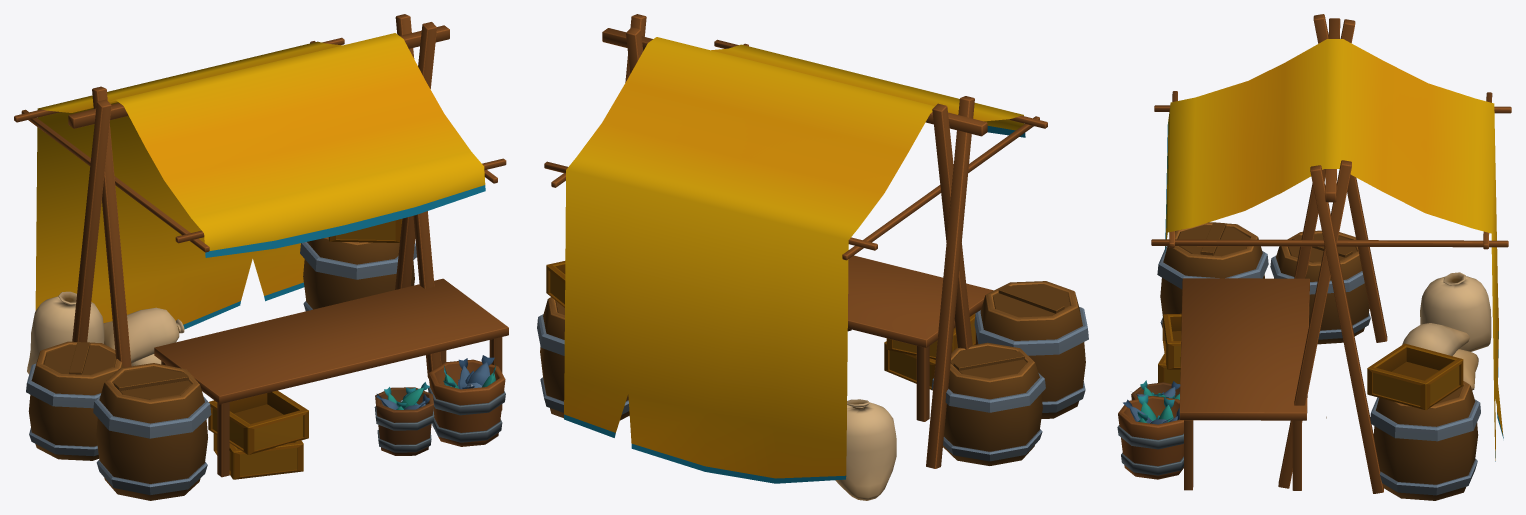
File: Fish_Market_lvl2.fbx
The picture shows the model from 3 angles, left to right: view 1: azimuth 30°, elevation 25°; view 2: azimuth 150°, elevation 25°; view 3: azimuth 270°, elevation 25°; orthographic projection. The views are drawn at different scales.
Parts seen in each view (by area): view 1: Fish_Market_lvl2_Tent, Fish_Market_lvl2_Table, Fish_Market_lvl2_Barrel, Fish_Market_lvl2_Barrel1, Fish_Market_lvl2_Bucket_With_Fish.001, Fish_Market_lvl2_Barrel.001, Product_Market_lvl2_Box.002, Fish_Market_lvl2_Bucket_With_Fish, Fish_Market_lvl2_Bag.001, Fish_Market_lvl2_Bag.003, Product_Market_lvl2_Box.001, Product_Market_lvl2_Box.003; view 2: Fish_Market_lvl2_Tent, Fish_Market_lvl2_Barrel1, Fish_Market_lvl2_Barrel, Fish_Market_lvl2_Table, Fish_Market_lvl2_Bag.001, Fish_Market_lvl2_Barrel.001, Product_Market_lvl2_Box.001, Product_Market_lvl2_Box.003, Product_Market_lvl2_Box.002; view 3: Fish_Market_lvl2_Tent, Fish_Market_lvl2_Table, Fish_Market_lvl2_Barrel.001, Fish_Market_lvl2_Barrel, Fish_Market_lvl2_Bucket_With_Fish.001, Product_Market_lvl2_Box.003, Fish_Market_lvl2_Barrel1, Fish_Market_lvl2_Bag.001, Fish_Market_lvl2_Bag.003, Product_Market_lvl2_Box.002, Fish_Market_lvl2_Bucket_With_Fish, Fish_Market_lvl2_Bag.002.
Boxes of the visible parts, box(x1,y1,x2,y2) form: Fish_Market_lvl2_Tent: box(14, 14, 506, 378); Fish_Market_lvl2_Table: box(154, 278, 508, 477); Fish_Market_lvl2_Barrel: box(93, 363, 211, 500); Fish_Market_lvl2_Barrel1: box(26, 341, 123, 460); Fish_Market_lvl2_Bucket_With_Fish.001: box(428, 355, 505, 446); Fish_Market_lvl2_Barrel.001: box(300, 237, 416, 311); Product_Market_lvl2_Box.002: box(208, 390, 308, 454); Fish_Market_lvl2_Bucket_With_Fish: box(374, 382, 434, 455); Fish_Market_lvl2_Bag.001: box(27, 291, 104, 374); Fish_Market_lvl2_Bag.003: box(103, 307, 184, 363); Product_Market_lvl2_Box.001: box(213, 433, 303, 479); Product_Market_lvl2_Box.003: box(328, 219, 402, 242); Fish_Market_lvl2_Tent: box(544, 14, 1047, 483); Fish_Market_lvl2_Barrel1: box(931, 342, 1045, 465); Fish_Market_lvl2_Barrel: box(974, 281, 1088, 418); Fish_Market_lvl2_Table: box(847, 255, 993, 421); Fish_Market_lvl2_Bag.001: box(835, 399, 896, 500); Fish_Market_lvl2_Barrel.001: box(537, 297, 629, 420); Product_Market_lvl2_Box.001: box(884, 341, 935, 390); Product_Market_lvl2_Box.003: box(546, 261, 565, 307); Product_Market_lvl2_Box.002: box(886, 313, 975, 359); Fish_Market_lvl2_Tent: box(1151, 14, 1511, 493); Fish_Market_lvl2_Table: box(1179, 278, 1309, 490); Fish_Market_lvl2_Barrel.001: box(1370, 381, 1480, 500); Fish_Market_lvl2_Barrel: box(1157, 222, 1268, 327); Fish_Market_lvl2_Bucket_With_Fish.001: box(1117, 394, 1183, 479); Product_Market_lvl2_Box.003: box(1367, 343, 1463, 410); Fish_Market_lvl2_Barrel1: box(1270, 230, 1370, 344); Fish_Market_lvl2_Bag.001: box(1420, 272, 1491, 351); Fish_Market_lvl2_Bag.003: box(1402, 323, 1469, 356); Product_Market_lvl2_Box.002: box(1162, 313, 1181, 369); Fish_Market_lvl2_Bucket_With_Fish: box(1131, 380, 1180, 399); Fish_Market_lvl2_Bag.002: box(1453, 349, 1478, 390).
Size of the model in its own units: 329 by 248 by 273.
